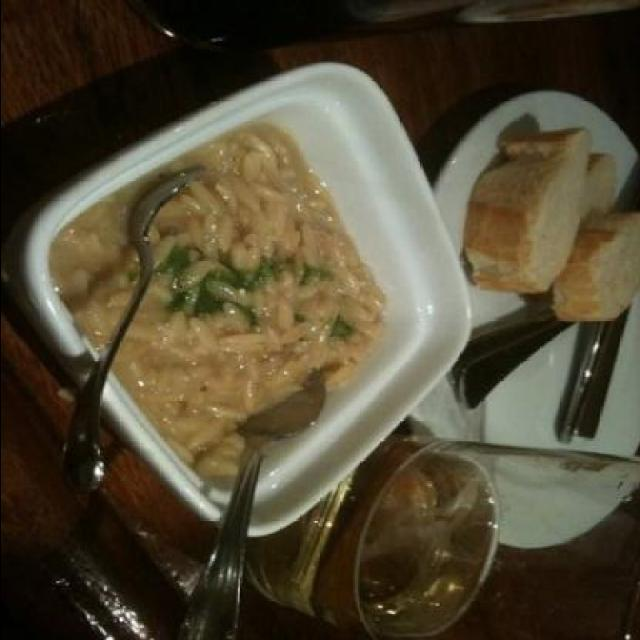Risotto: (59, 117, 390, 508)
